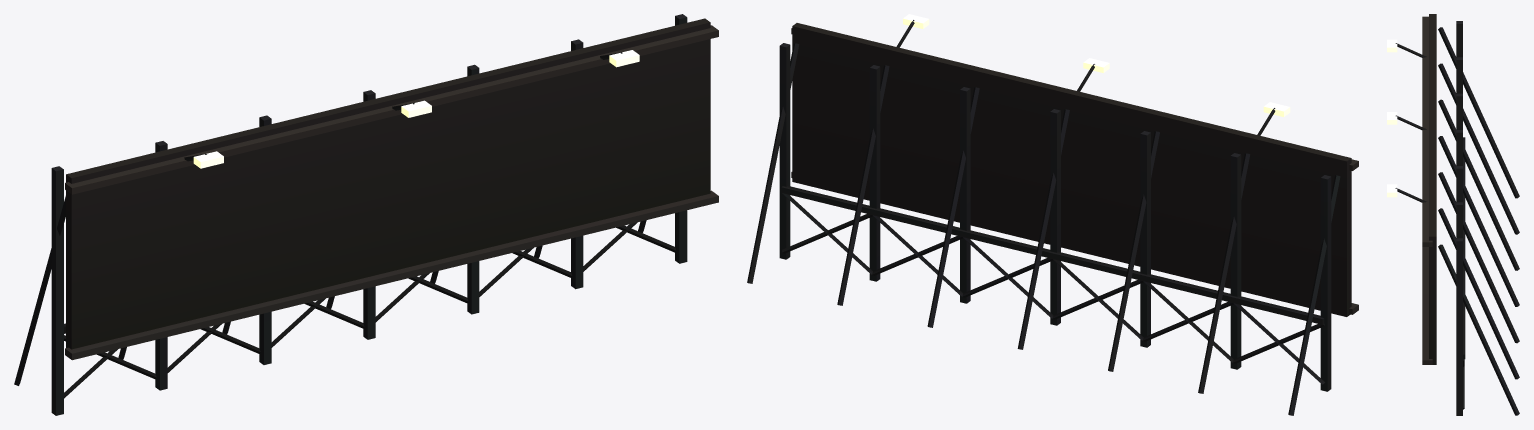
The model's file is rb_signframe_lo-CPfZSkCK.glb.
3 views of the same model, side by side, from view 1: azimuth 30°, elevation 25°; view 2: azimuth 150°, elevation 25°; view 3: azimuth 270°, elevation 25° (orthographic). The views are drawn at different scales.
Size of the model in its own units: 8.3 by 3.29 by 2.07.
